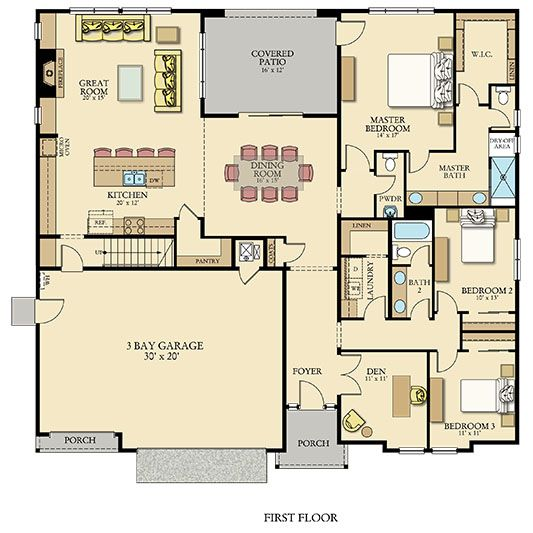door: (340, 350, 365, 397), (42, 295, 67, 325), (343, 136, 368, 166), (343, 16, 368, 46), (286, 234, 311, 264), (56, 238, 83, 263), (434, 350, 461, 374), (294, 376, 321, 400), (433, 286, 460, 310), (406, 152, 433, 175), (456, 76, 483, 99), (377, 171, 397, 197), (363, 293, 386, 315), (408, 295, 432, 316), (487, 106, 511, 127), (234, 270, 260, 286), (174, 197, 196, 214)
